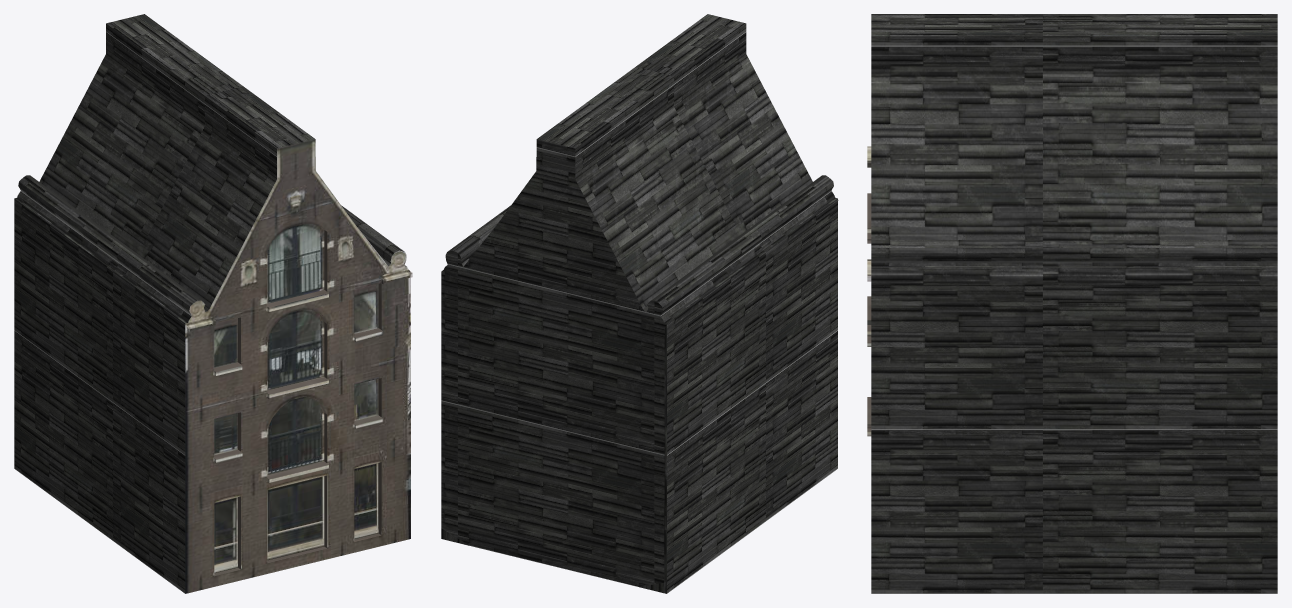
File: Buildings18thCentury.fbx
3 views of the same model, side by side, from view 1: azimuth 30°, elevation 25°; view 2: azimuth 150°, elevation 25°; view 3: azimuth 270°, elevation 25° (orthographic). The views are drawn at different scales.
Parts seen in each view (by area): view 1: Buildings18thCentury; view 2: Buildings18thCentury; view 3: Buildings18thCentury.
Boxes of the visible parts, <box> form: Buildings18thCentury: <box>14,14,412,593</box>; Buildings18thCentury: <box>441,14,838,593</box>; Buildings18thCentury: <box>867,14,1277,593</box>.
Size of the model in its own units: 919 by 1646 by 1219.
